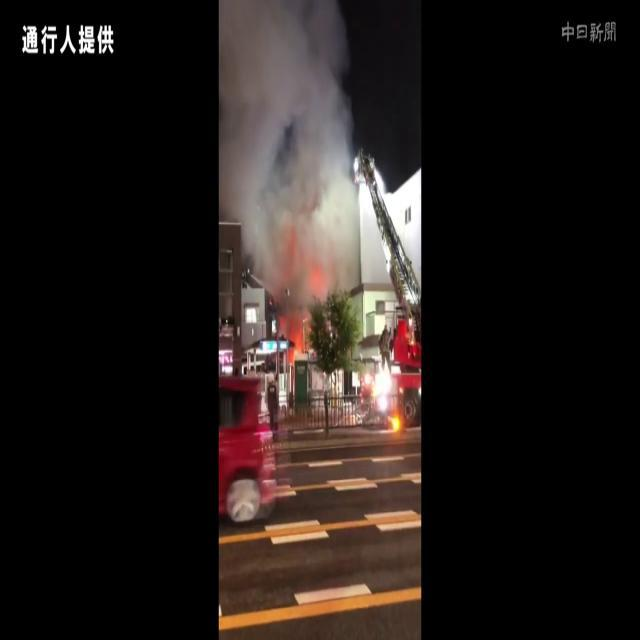Smoke: (218, 0, 364, 296)
